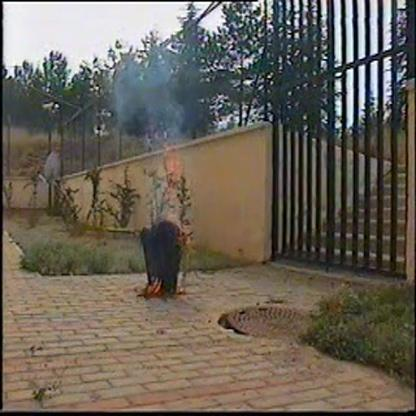Fire: (162, 144, 184, 222)
